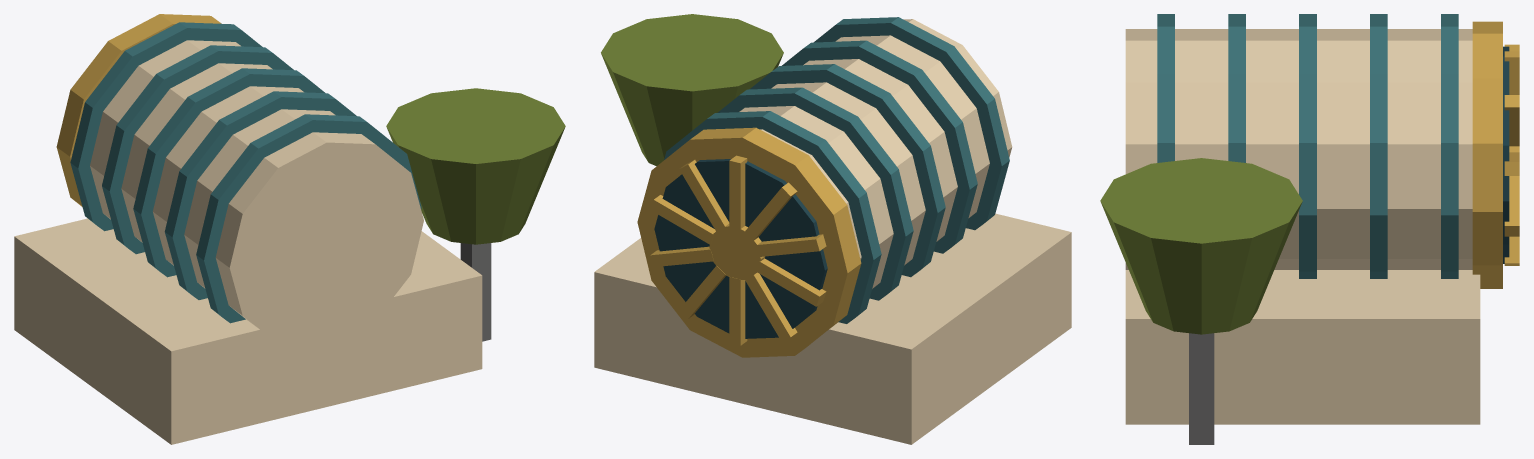
3 views of the same model, side by side, from view 1: azimuth 30°, elevation 25°; view 2: azimuth 150°, elevation 25°; view 3: azimuth 270°, elevation 25° (orthographic). The views are drawn at different scales.
Parts seen in each view (by area): view 1: Biomass generator; view 2: Biomass generator; view 3: Biomass generator.
Boxes of the visible parts, <box> form: Biomass generator: <box>14,14,565,444</box>; Biomass generator: <box>594,14,1071,444</box>; Biomass generator: <box>1100,14,1519,444</box>.
Size of the model in its own units: 10.7 by 6.8 by 8.28.
Materials: 1 (1 with a texture image).
